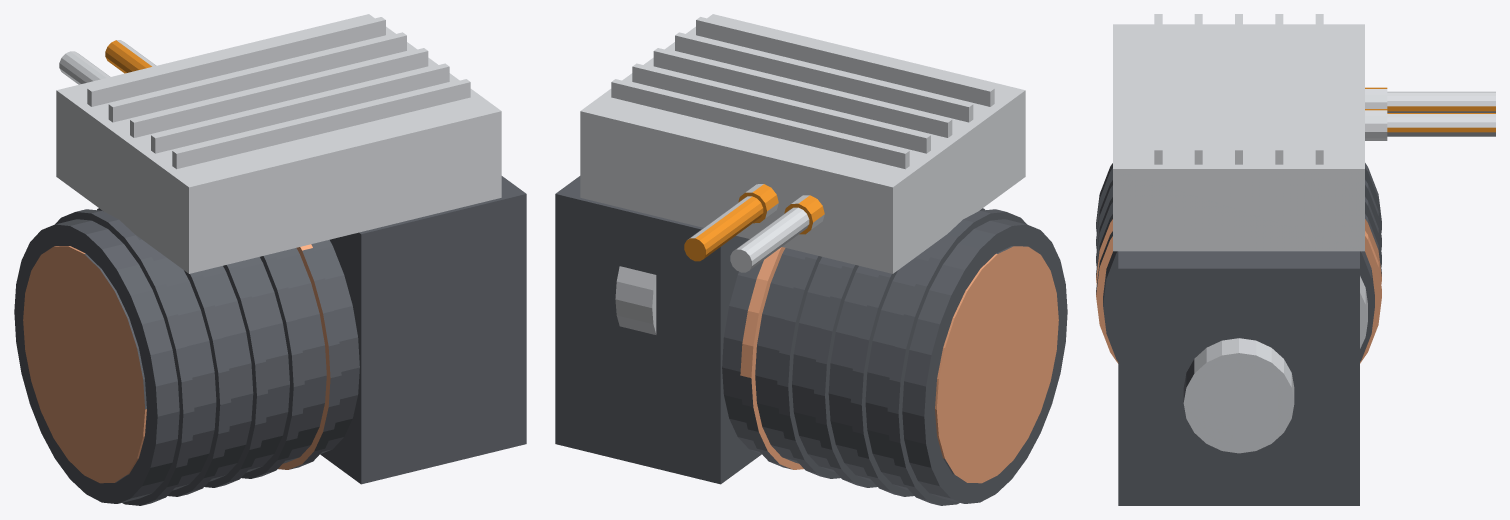
Rendered from electric_drive_unit_complete.glb.
3 views of the same model, side by side, from view 1: azimuth 30°, elevation 25°; view 2: azimuth 150°, elevation 25°; view 3: azimuth 270°, elevation 25° (orthographic). The views are drawn at different scales.
Parts seen in each view (by area): view 1: EDU_Inverter_SiC, EDU_Motor_Assembly, EDU_Reduction_Gearbox; view 2: EDU_Inverter_SiC, EDU_Motor_Assembly, EDU_Reduction_Gearbox; view 3: EDU_Inverter_SiC, EDU_Reduction_Gearbox, EDU_Motor_Assembly.
Part boxes in pixels (bbox=[...]): EDU_Inverter_SiC: bbox=[56, 14, 501, 273]; EDU_Motor_Assembly: bbox=[14, 208, 359, 505]; EDU_Reduction_Gearbox: bbox=[320, 176, 526, 484]; EDU_Inverter_SiC: bbox=[580, 14, 1025, 273]; EDU_Motor_Assembly: bbox=[722, 208, 1067, 505]; EDU_Reduction_Gearbox: bbox=[555, 176, 761, 484]; EDU_Inverter_SiC: bbox=[1113, 14, 1495, 251]; EDU_Reduction_Gearbox: bbox=[1118, 251, 1367, 505]; EDU_Motor_Assembly: bbox=[1096, 163, 1381, 363].
Bounding box in the file's own units: 0.4495 × 0.383 × 0.397.
